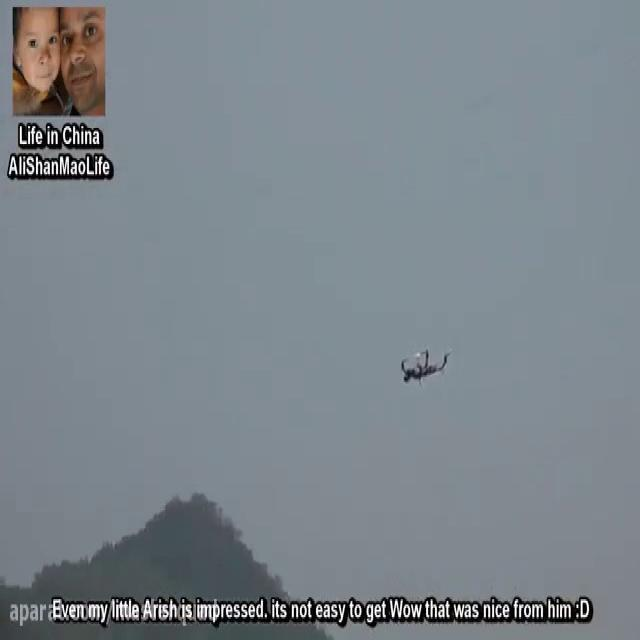drones: (394, 331, 458, 402)
